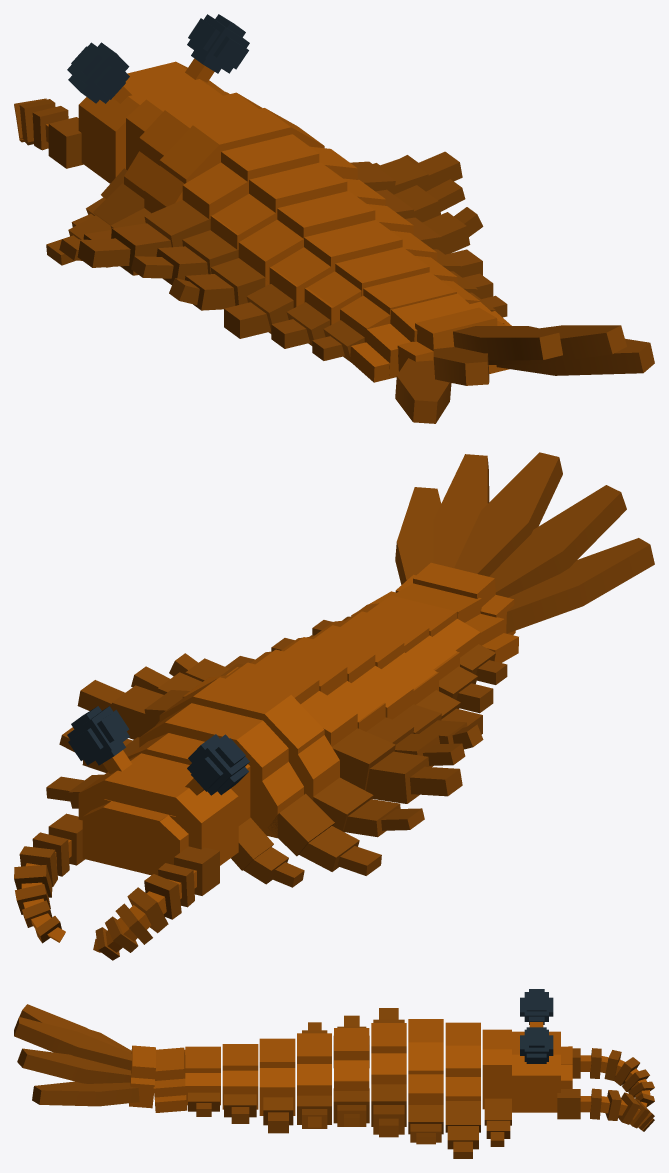
File: anomalocaris_2.obj
3 views of the same model, one above another, from view 1: azimuth 30°, elevation 25°; view 2: azimuth 150°, elevation 25°; view 3: azimuth 270°, elevation 25° (orthographic). The views are drawn at different scales.
Parts seen in each view (by area): view 1: torso02, torso01, leg02_L, tail, torso03, head, leg02_R, leg01_L, mouth_L, leg03_L, leg03_R; view 2: tail, head, torso03, torso02, torso01, leg01_L, leg02_L, mouth_L, leg02_R, mouth_R, leg03_L, leg01_R; view 3: torso02, tail, torso03, torso01, head, leg02_R, leg01_R, mouth_R, mouth_L, leg03_R, leg02_L.
Boxes of the visible parts, x1=… form: torso02: x1=182, y1=134, x2=437, y2=307; torso01: x1=304, y1=247, x2=511, y2=383; leg02_L: x1=77, y1=200, x2=293, y2=338; tail: x1=395, y1=325, x2=654, y2=423; torso03: x1=124, y1=84, x2=324, y2=213; head: x1=67, y1=14, x2=249, y2=183; leg02_R: x1=350, y1=151, x2=483, y2=277; leg01_L: x1=46, y1=168, x2=151, y2=267; mouth_L: x1=14, y1=98, x2=83, y2=168; leg03_L: x1=271, y1=302, x2=364, y2=362; leg03_R: x1=450, y1=271, x2=507, y2=317; tail: x1=395, y1=452, x2=654, y2=633; head: x1=67, y1=706, x2=249, y2=875; torso03: x1=127, y1=677, x2=339, y2=838; torso02: x1=182, y1=625, x2=438, y2=746; torso01: x1=314, y1=562, x2=518, y2=680; leg01_L: x1=231, y1=777, x2=424, y2=887; leg02_L: x1=332, y1=690, x2=483, y2=803; mouth_L: x1=93, y1=846, x2=219, y2=960; leg02_R: x1=77, y1=653, x2=254, y2=739; mouth_R: x1=14, y1=813, x2=84, y2=943; leg03_L: x1=439, y1=644, x2=507, y2=713; leg01_R: x1=46, y1=727, x2=139, y2=808; torso02: x1=259, y1=1023, x2=406, y2=1115; tail: x1=14, y1=1004, x2=139, y2=1106; torso03: x1=408, y1=1019, x2=511, y2=1109; torso01: x1=129, y1=1044, x2=258, y2=1112; head: x1=512, y1=989, x2=572, y2=1112; leg02_R: x1=263, y1=1084, x2=406, y2=1137; leg01_R: x1=408, y1=1098, x2=511, y2=1158; mouth_R: x1=557, y1=1088, x2=654, y2=1131; mouth_L: x1=572, y1=1048, x2=654, y2=1107; leg03_R: x1=188, y1=1092, x2=256, y2=1123; leg02_L: x1=302, y1=1008, x2=404, y2=1067.
Bounding box in the file's own units: 7.24 × 3.11 × 16.38.
